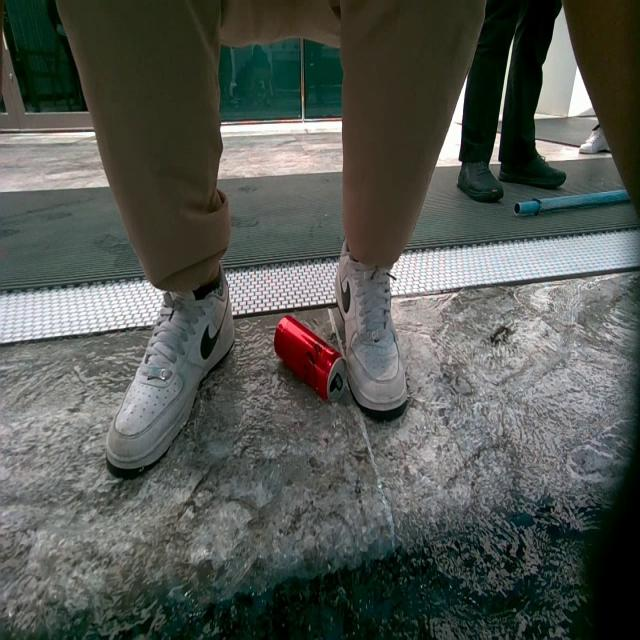Cans: (275, 316, 355, 405)
